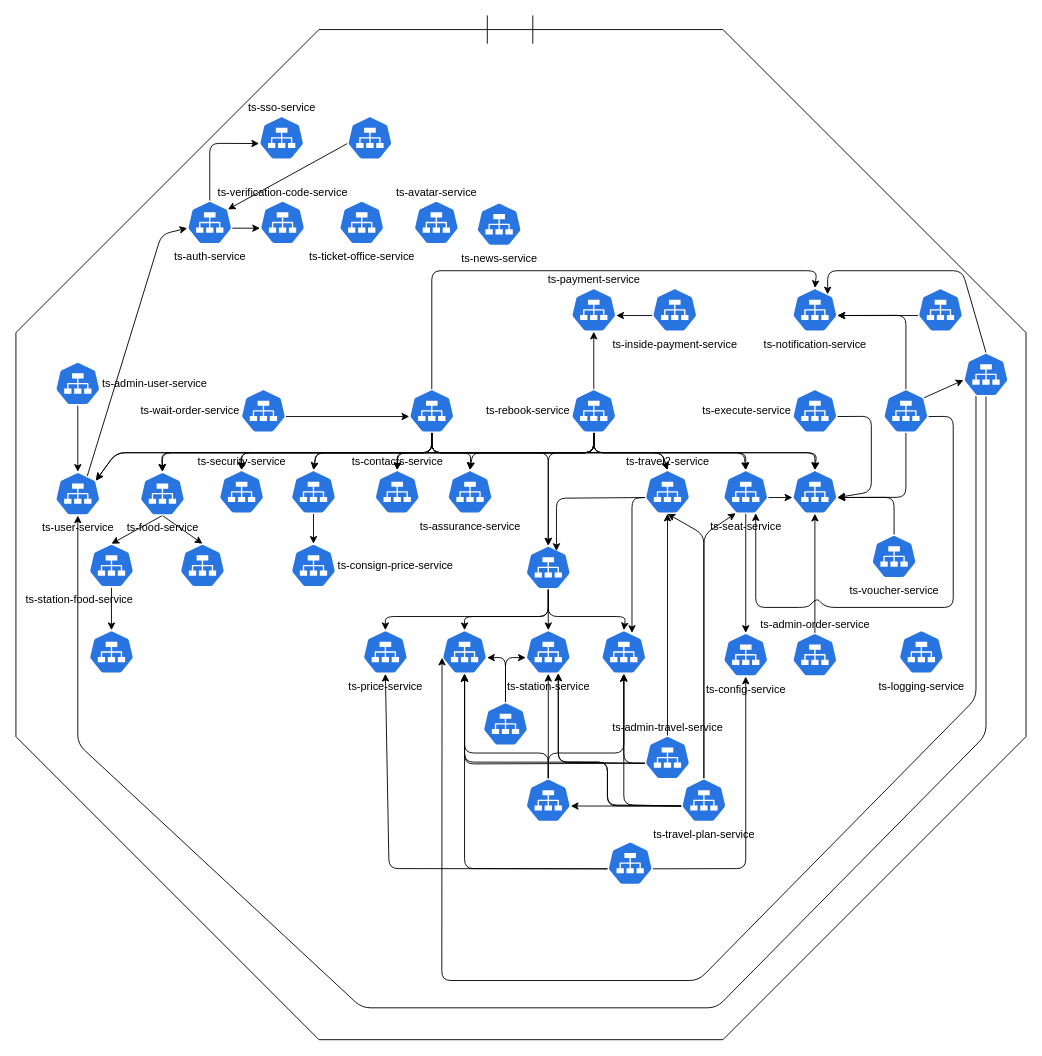
Some shapes in this 1042 by 1056 pixel diagram are drawn without their labels. The shapes that lost their labels are listed below. From the top down, each one's centre as x and y in pixels, then its label:
the point at 369,137: ts-login-service
the point at 940,309: ts-delivery-service
the point at 985,374: ts-refund-service
the point at 431,410: ts-preserve-other-service
the point at 905,410: ts-cancel-service
the point at 313,491: ts-consign-service
the point at 814,491: ts-order-other-service
the point at 202,565: ts-train-food-service
the point at 548,567: ts-basic-service
the point at 111,651: ts-food-delivery-service
the point at 464,651: ts-route-service
the point at 623,651: ts-train-service
the point at 505,723: ts-admin-route-service
the point at 548,800: ts-route-plan-service
the point at 630,862: ts-admin-basic-info-service
